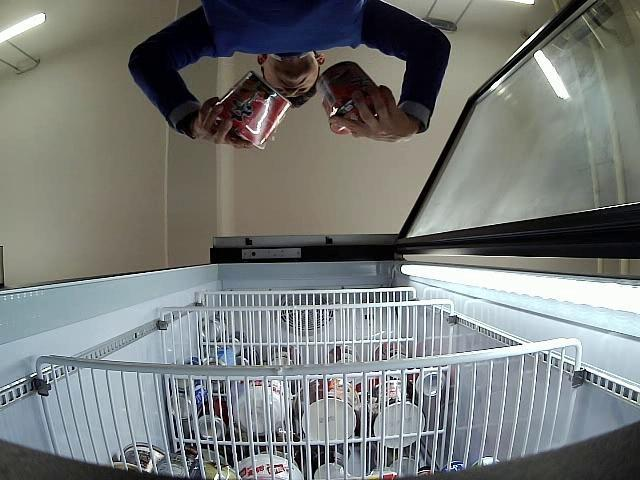01_ShinRamen_L: (214, 70, 291, 150), (316, 60, 381, 136)
